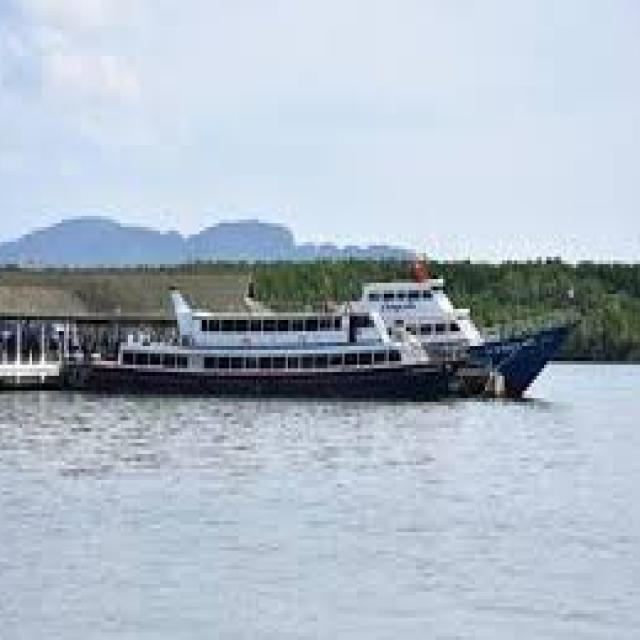passenger ship: (159, 266, 595, 375), (65, 305, 436, 387)
